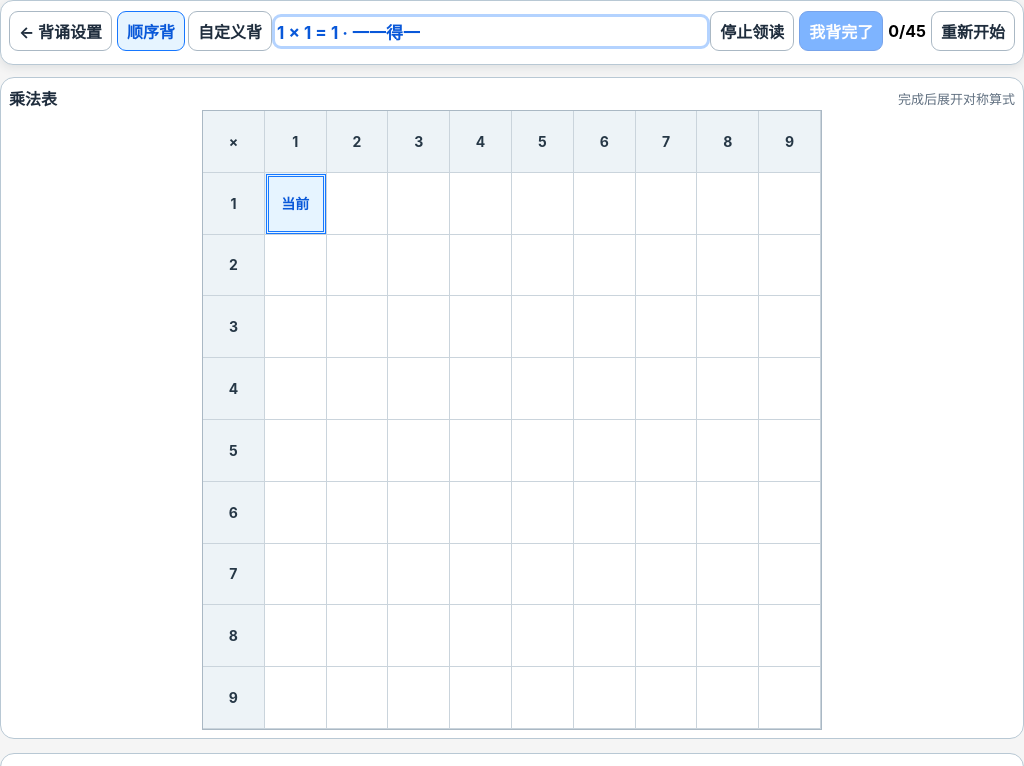
Test: MultiplicationRecitation 顺序背与自定义背 › 停止领读后允许确认，卸载时取消语音
Click the button "停止领读" at x=752, y=31, box [710,11,794,51]
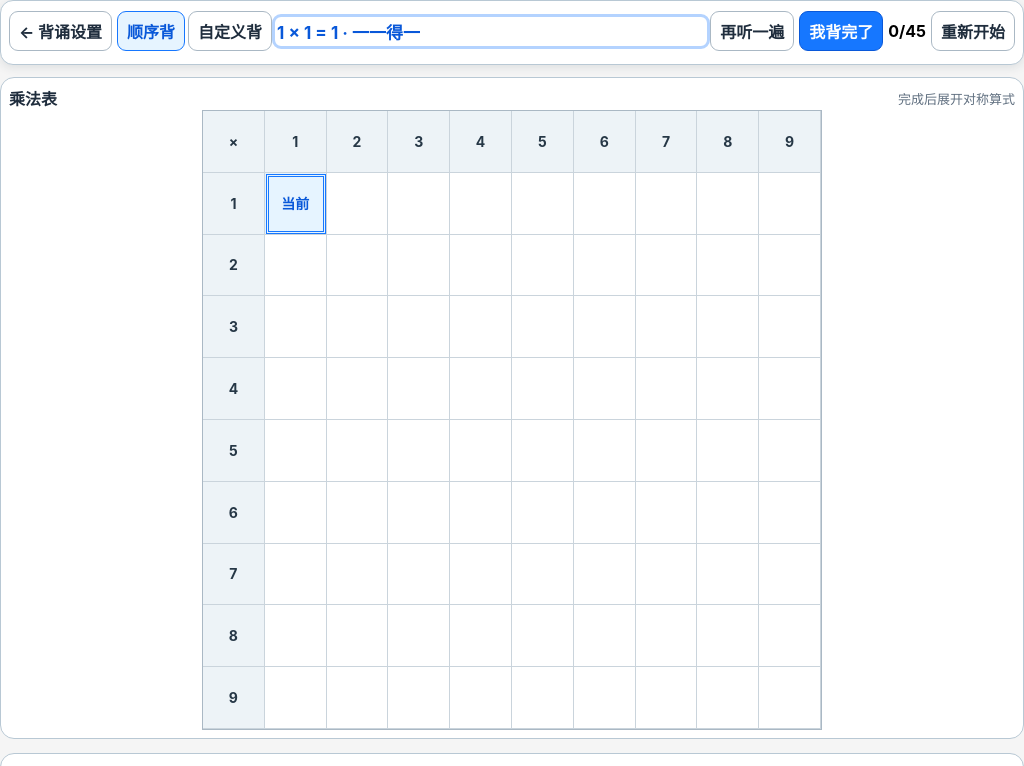
expect the button "我背完了" is enabled: met, box [799,11,883,51]
